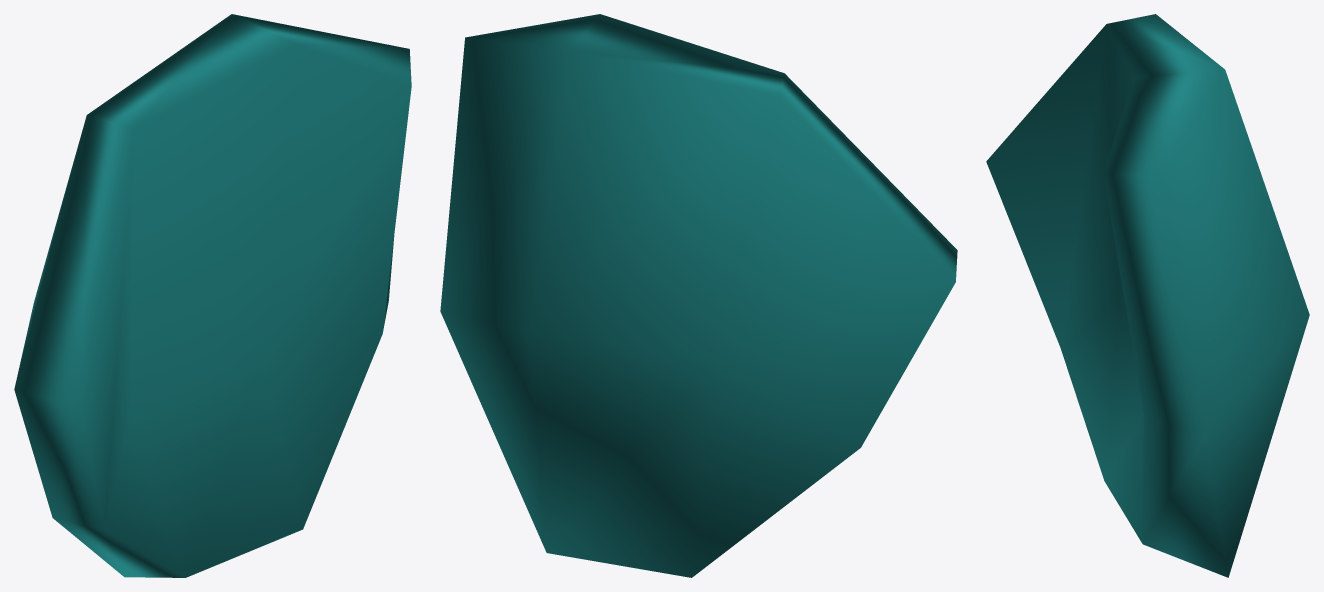
Rendered from baseball_glove_collider.fbx.
3 renders of one model, left to right at view 1: azimuth 30°, elevation 25°; view 2: azimuth 150°, elevation 25°; view 3: azimuth 270°, elevation 25°, orthographic. The views are drawn at different scales.
Visible parts, largest first — view 1: baseball_glove_collider; view 2: baseball_glove_collider; view 3: baseball_glove_collider.
Part boxes in pixels (x1=…): baseball_glove_collider: x1=14, y1=14, x2=411, y2=577; baseball_glove_collider: x1=440, y1=14, x2=957, y2=577; baseball_glove_collider: x1=986, y1=14, x2=1309, y2=577.
Size of the model in its own units: 20.77 by 22.96 by 13.54.
